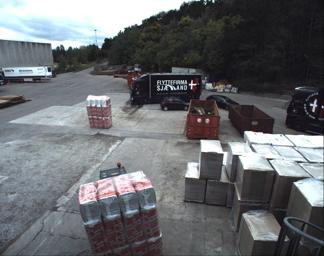rockwool_batts: (80, 171, 164, 255), (86, 94, 110, 127)
